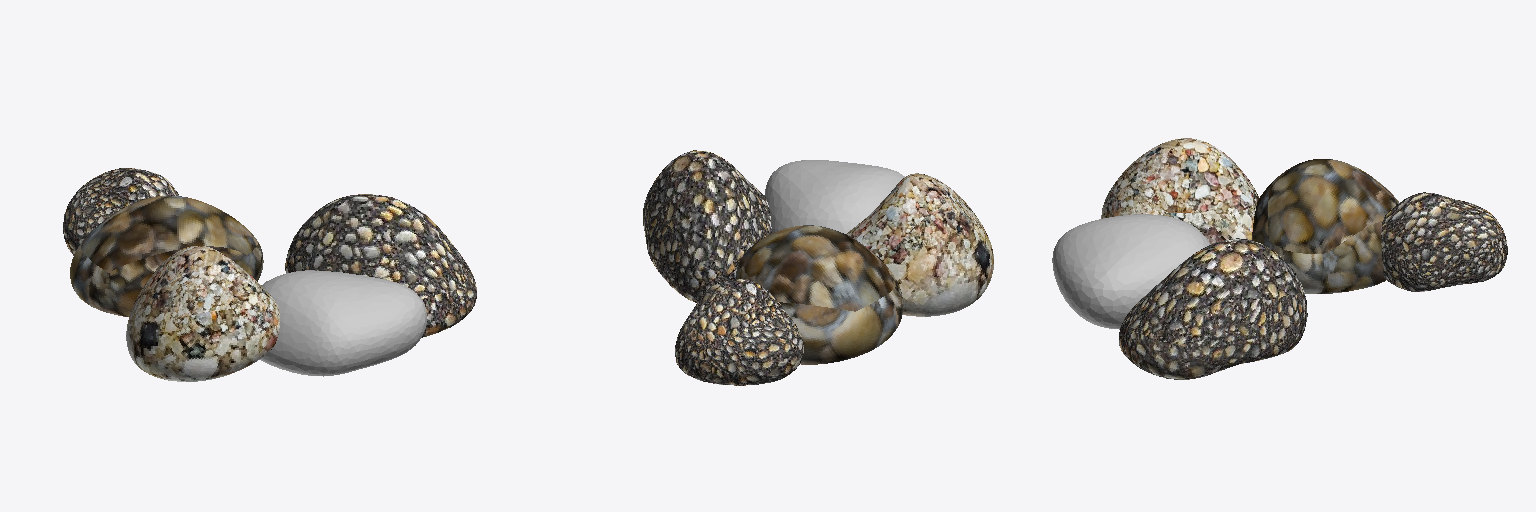
3 views of the same model, side by side, from view 1: azimuth 30°, elevation 25°; view 2: azimuth 150°, elevation 25°; view 3: azimuth 270°, elevation 25° (orthographic).
Visible parts, largest first — view 1: Icosphere.004; view 2: Icosphere.004; view 3: Icosphere.004.
Boxes of the visible parts, x1,y1,x2,y2 form: Icosphere.004: [63, 168, 476, 381]; Icosphere.004: [643, 150, 993, 385]; Icosphere.004: [1052, 138, 1507, 379].
Size of the model in its own units: 1.14 by 0.4347 by 1.34.
Materials: 5 (3 with a texture image).